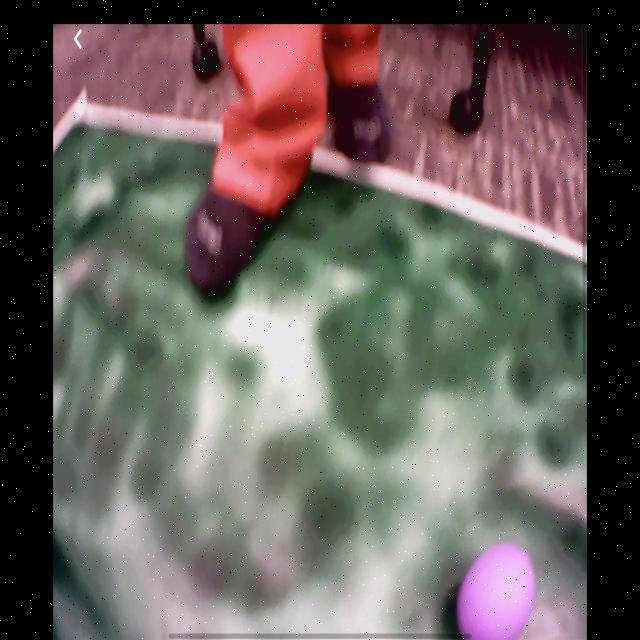ball: (458, 546, 536, 640)
